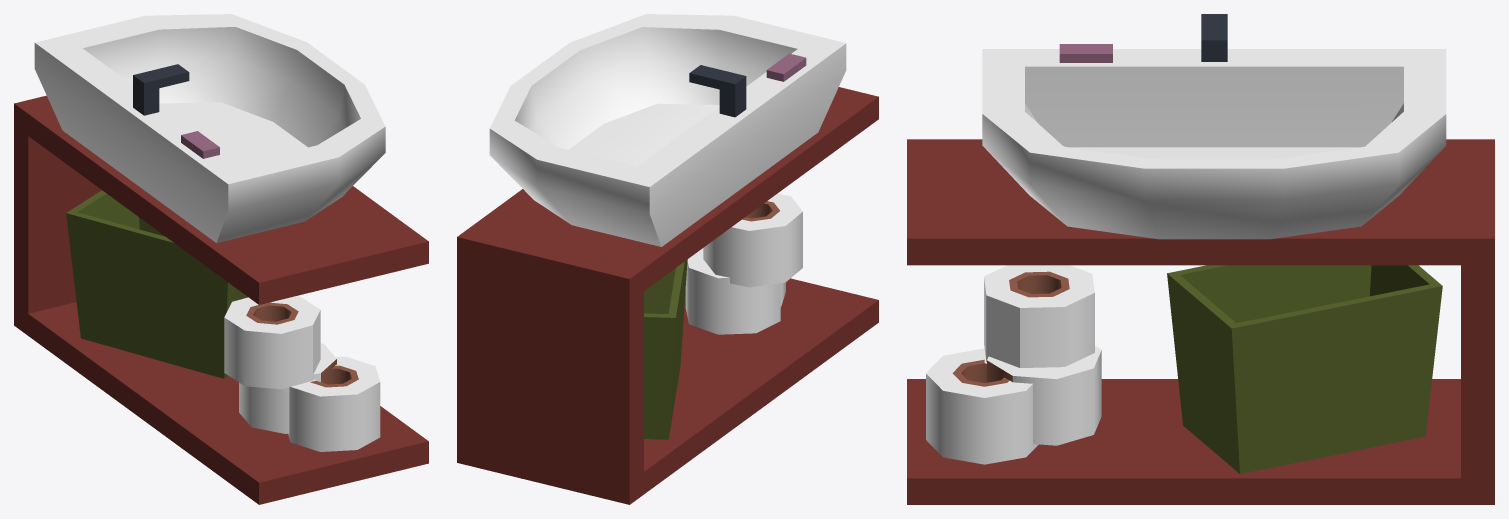
The model's file is Sink.fbx.
3 renders of one model, left to right at view 1: azimuth 30°, elevation 25°; view 2: azimuth 150°, elevation 25°; view 3: azimuth 270°, elevation 25°, orthographic. The views are drawn at different scales.
Parts seen in each view (by area): view 1: Toilet_Paper.002, Toilet_Paper.003, Toilet_Paper.004, Toilet_Paper.001, Toilet_Paper.006, Toilet_Paper.007; view 2: Toilet_Paper.002, Toilet_Paper.003, Toilet_Paper.001, Toilet_Paper.004, Toilet_Paper.006, Toilet_Paper.007; view 3: Toilet_Paper.002, Toilet_Paper.003, Toilet_Paper.004, Toilet_Paper.001, Toilet_Paper.006, Toilet_Paper.007.
Boxes of the visible parts, x1,y1,x2,y2 form: Toilet_Paper.002: (14, 95, 428, 504); Toilet_Paper.003: (34, 14, 385, 243); Toilet_Paper.004: (66, 190, 247, 378); Toilet_Paper.001: (224, 296, 380, 451); Toilet_Paper.006: (133, 64, 189, 115); Toilet_Paper.007: (181, 131, 219, 158); Toilet_Paper.002: (457, 87, 878, 504); Toilet_Paper.003: (489, 14, 846, 246); Toilet_Paper.001: (685, 193, 802, 334); Toilet_Paper.004: (644, 259, 687, 439); Toilet_Paper.006: (689, 65, 746, 117); Toilet_Paper.007: (766, 53, 806, 81); Toilet_Paper.002: (907, 139, 1494, 504); Toilet_Paper.003: (982, 49, 1446, 239); Toilet_Paper.004: (1167, 265, 1442, 473); Toilet_Paper.001: (926, 265, 1101, 464); Toilet_Paper.006: (1201, 14, 1227, 61); Toilet_Paper.007: (1059, 44, 1112, 62).
Bounding box in the file's own units: 4831 × 7434 × 10000.
